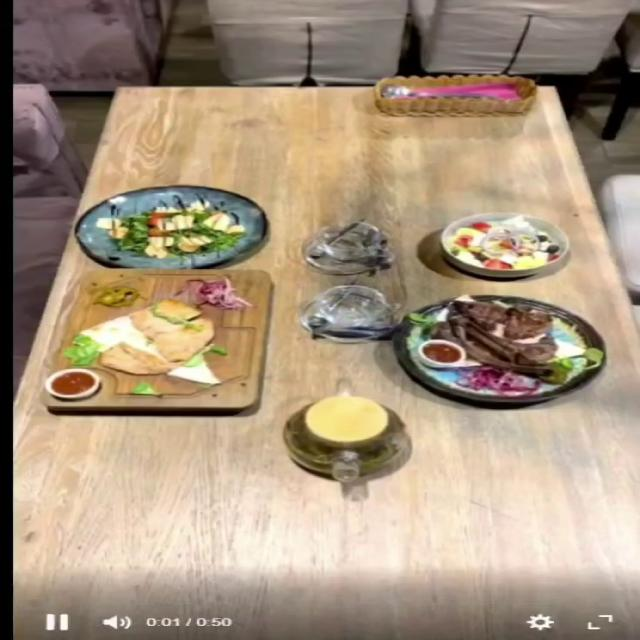meat: (390, 294, 606, 403)
salat: (73, 185, 265, 268), (438, 212, 571, 277)
tea: (282, 396, 409, 480)
